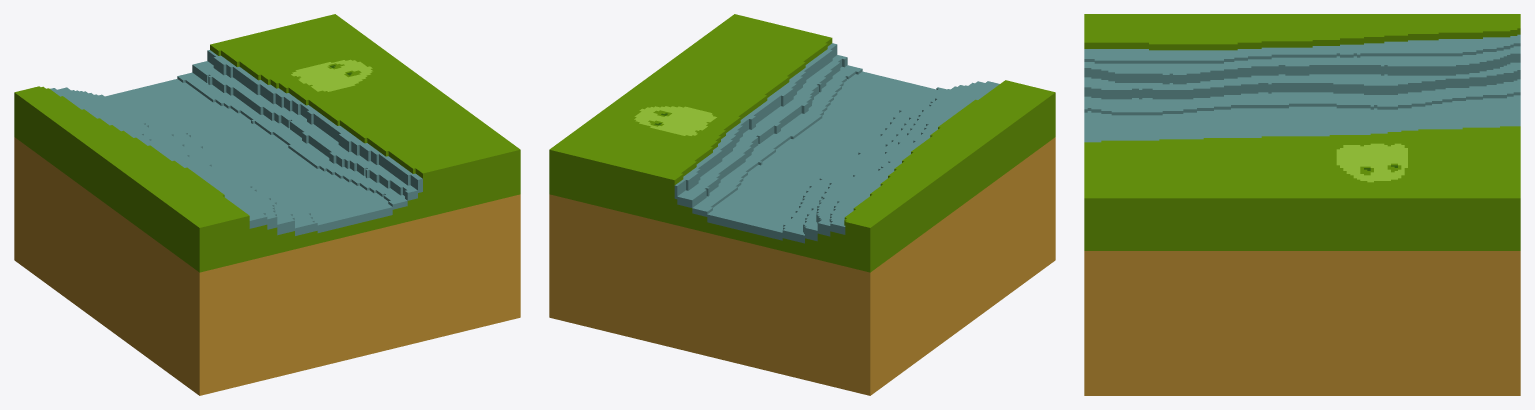
3 views of the same model, side by side, from view 1: azimuth 30°, elevation 25°; view 2: azimuth 150°, elevation 25°; view 3: azimuth 270°, elevation 25° (orthographic). The views are drawn at different scales.
Visible parts, largest first — view 1: 14O; view 2: 14O; view 3: 14O.
Part boxes in pixels (x1,y1,x2,y2): 14O: (14, 14, 520, 395); 14O: (549, 14, 1055, 395); 14O: (1084, 14, 1520, 395).
Bounding box in the file's own units: 12.8 × 6.4 × 12.8.
Materials: 1 (1 with a texture image).
